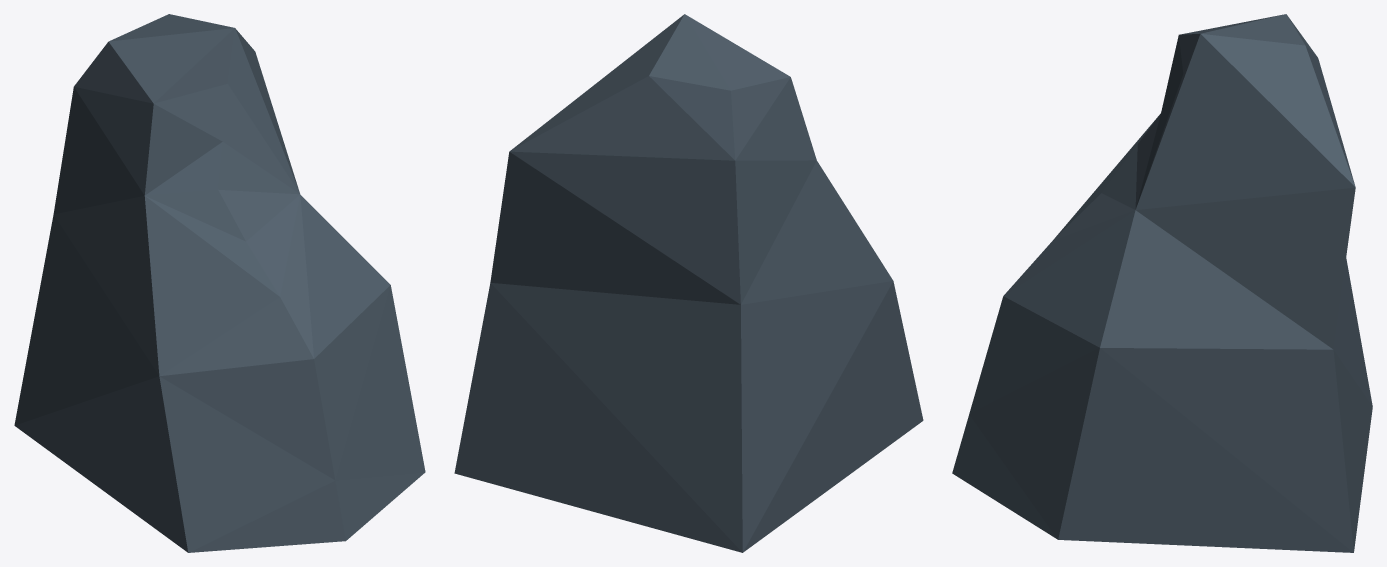
Rendered from Rock3.fbx.
3 renders of one model, left to right at view 1: azimuth 30°, elevation 25°; view 2: azimuth 150°, elevation 25°; view 3: azimuth 270°, elevation 25°, orthographic. The views are drawn at different scales.
Parts seen in each view (by area): view 1: DefinitelyDLedRock; view 2: DefinitelyDLedRock; view 3: DefinitelyDLedRock.
Boxes of the visible parts, x1,y1,x2,y2 form: DefinitelyDLedRock: (14, 14, 425, 552); DefinitelyDLedRock: (454, 14, 923, 552); DefinitelyDLedRock: (952, 14, 1372, 552).
Size of the model in its own units: 0.9507 by 1.35 by 1.16.
